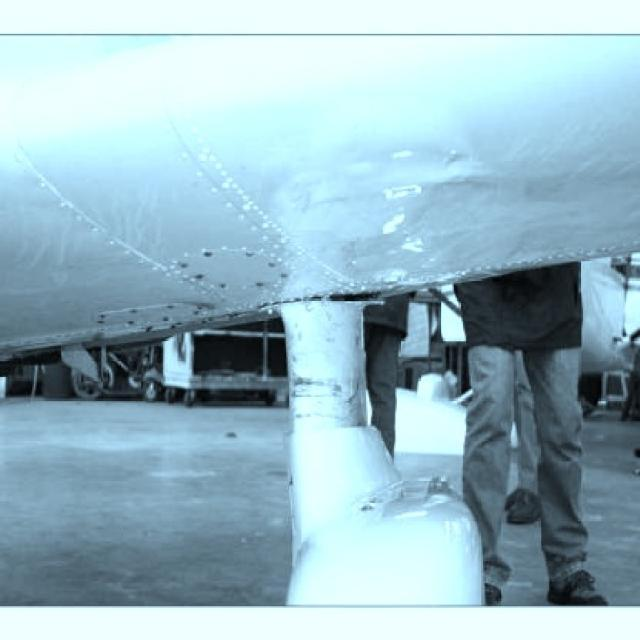dent: (377, 181, 434, 214)
